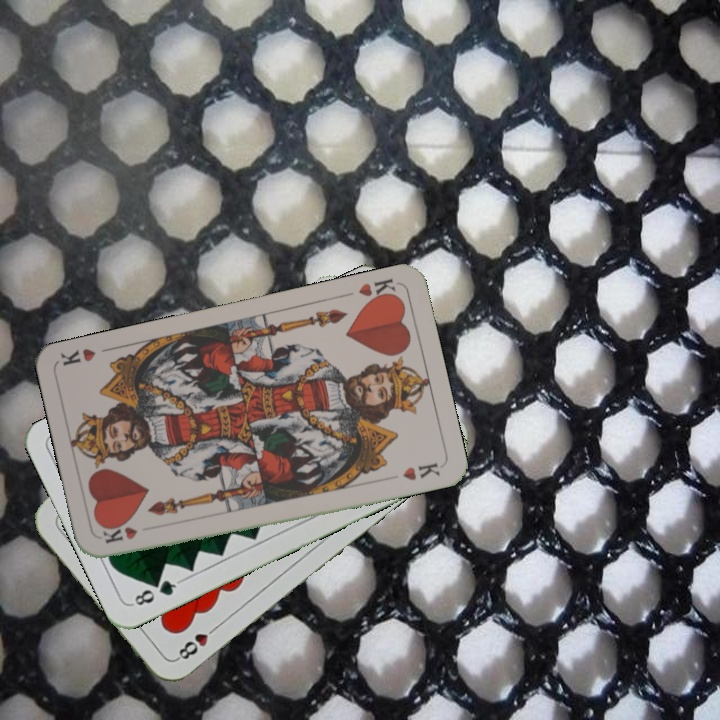G8: (128, 576, 183, 609)
H8: (172, 621, 221, 663)
HK: (354, 274, 401, 307), (99, 523, 140, 546)
